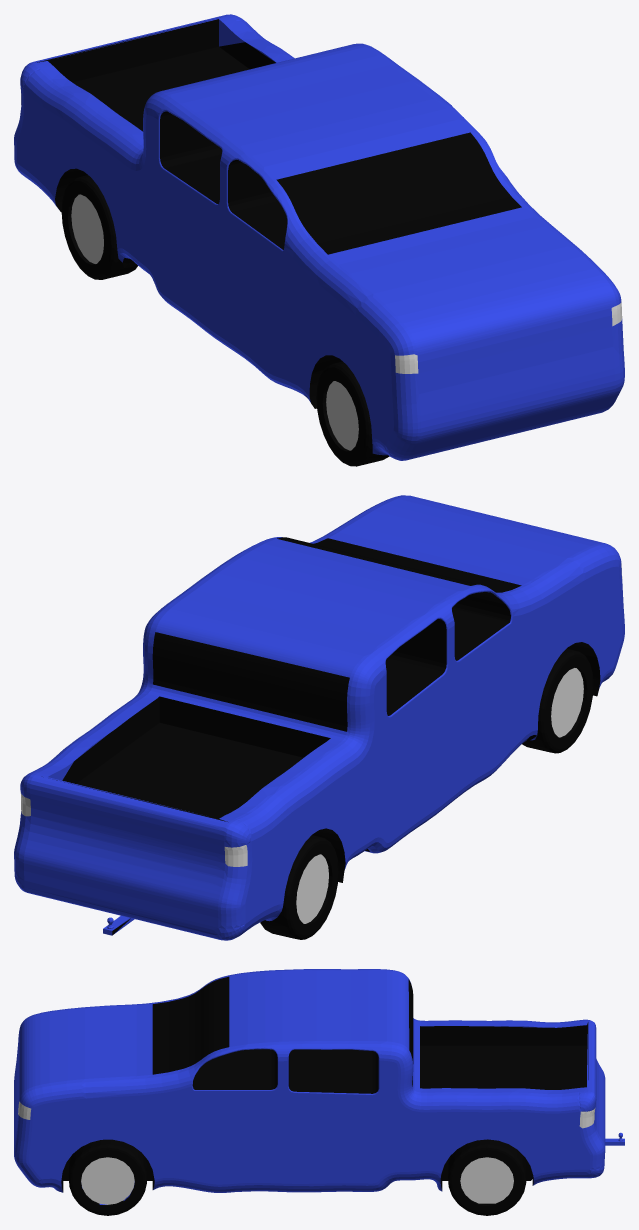
File: truck.dae
The picture shows the model from 3 angles, top to bottom: view 1: azimuth 30°, elevation 25°; view 2: azimuth 150°, elevation 25°; view 3: azimuth 270°, elevation 25°; orthographic projection. The views are drawn at different scales.
Visible parts, largest first — view 1: truck; view 2: truck; view 3: truck.
Boxes of the visible parts, left/top/right/bottom form: truck: left=14, top=14, right=624, bottom=466; truck: left=14, top=495, right=624, bottom=940; truck: left=14, top=969, right=624, bottom=1215.
Size of the model in its own units: 2 by 6.23 by 1.91.
